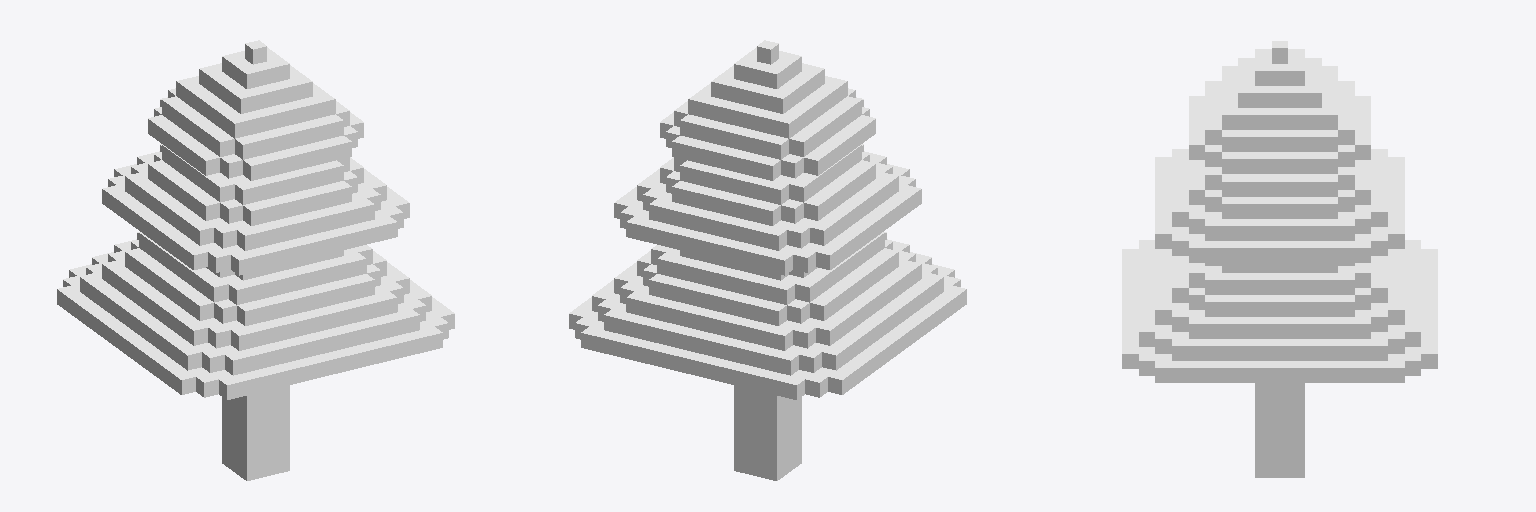
File: crist_tree.obj
The picture shows the model from 3 angles: view 1: azimuth 30°, elevation 25°; view 2: azimuth 150°, elevation 25°; view 3: azimuth 270°, elevation 25°; orthographic projection.
Parts seen in each view (by area): view 1: object 1; view 2: object 1; view 3: object 1.
Part boxes in pixels (bbox=[...]): object 1: bbox=[57, 40, 454, 480]; object 1: bbox=[569, 40, 966, 480]; object 1: bbox=[1122, 41, 1437, 477].
Bounding box in the file's own units: 1.9 × 2.8 × 1.9.